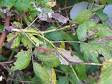Diseased_Leaves: (58, 48, 77, 65), (50, 12, 69, 24), (37, 47, 52, 54), (97, 35, 111, 42)
